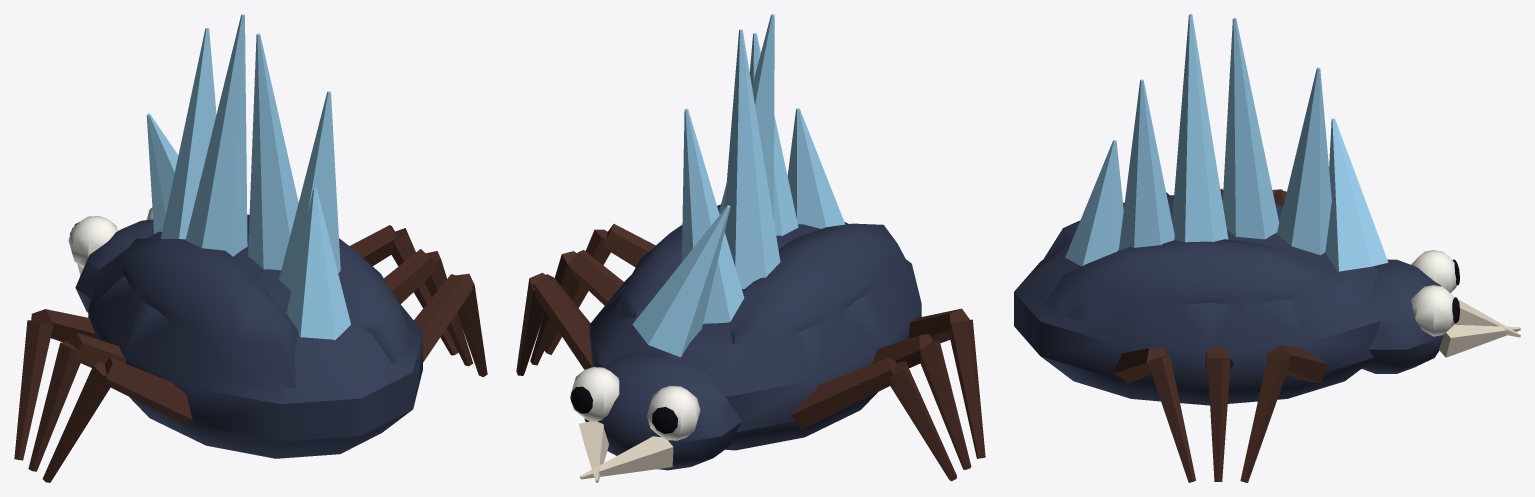
The model's file is Shardback.fbx.
The picture shows the model from 3 angles, left to right: view 1: azimuth 30°, elevation 25°; view 2: azimuth 150°, elevation 25°; view 3: azimuth 270°, elevation 25°; orthographic projection. The views are drawn at different scales.
Parts seen in each view (by area): view 1: Body_Carapace, Body_Crystal, Body_Legs, Body_Sclera; view 2: Body_Carapace, Body_Crystal, Body_Legs, Body_Sclera, Body_Claw, Body_Pupil; view 3: Body_Carapace, Body_Crystal, Body_Legs, Body_Sclera, Body_Claw.
Part boxes in pixels (x1,y1,x2,y2): Body_Carapace: (75,214,422,458); Body_Crystal: (146,14,350,339); Body_Legs: (14,225,487,482); Body_Sclera: (68,207,152,268); Body_Carapace: (584,204,921,470); Body_Crystal: (632,14,845,357); Body_Legs: (516,224,985,481); Body_Sclera: (570,367,700,440); Body_Claw: (579,421,673,482); Body_Pupil: (571,386,677,433); Body_Carapace: (1014,194,1443,405); Body_Crystal: (1065,14,1388,271); Body_Legs: (1113,188,1328,482); Body_Sclera: (1411,250,1456,336); Body_Claw: (1439,297,1520,357).
Bounding box in the file's own units: 5.49 × 4.72 × 5.87.
